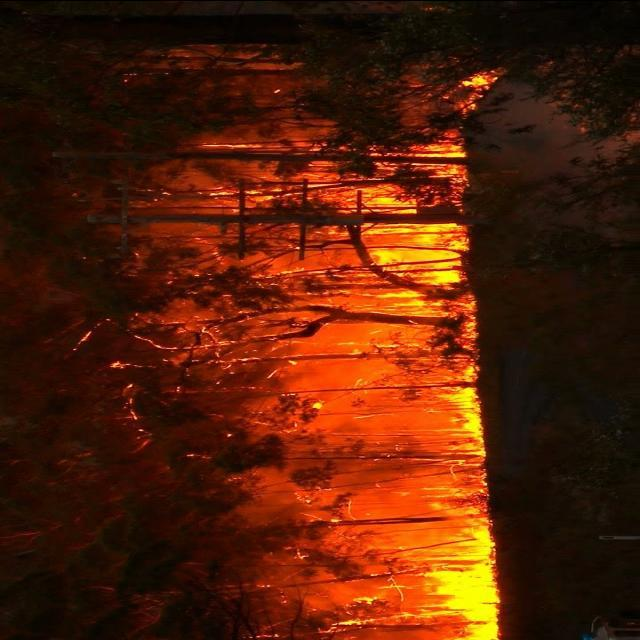Fire: (348, 139, 470, 306), (412, 521, 492, 637), (418, 358, 482, 453)
